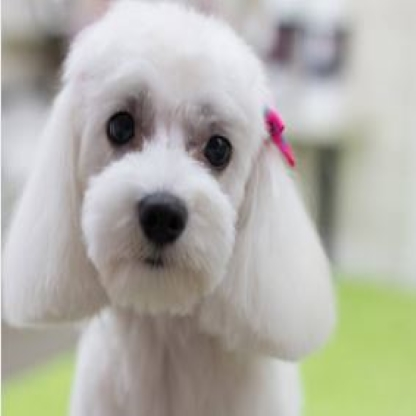maltese: (12, 2, 338, 416)
